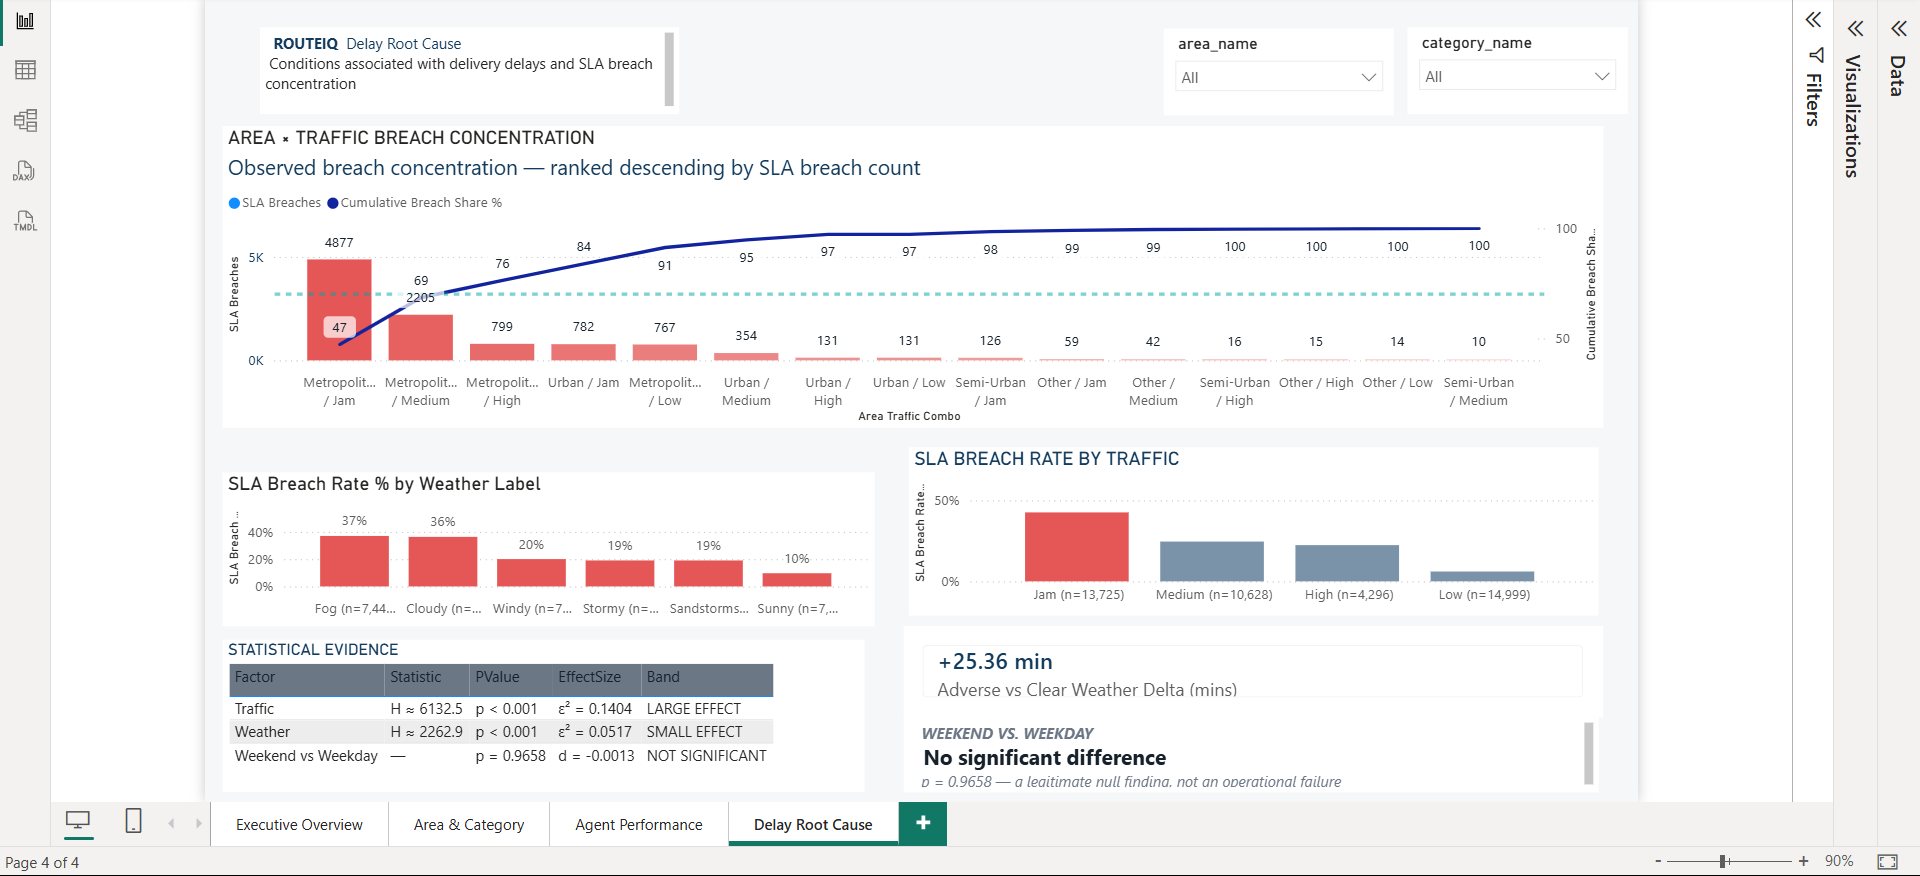

The page's visual inventory and layout, read from the dashboard file:
{"tool":"powerbi","page":{"name":"Delay Root Cause","canvas":[1280,720],"ordinal":3},"visuals":[{"type":"textbox","box":[48.8,27.9,374.4,77.9],"z":0},{"type":"slicer","fields":{"Values":["DimArea.area_name"]},"box":[857,29.1,205.8,77.9],"z":1000},{"type":"slicer","fields":{"Values":["DimCategory.category_name"]},"box":[1074.4,27.9,196.5,77.9],"z":2000},{"type":"lineStackedColumnComboChart","title":"AREA × TRAFFIC BREACH CONCENTRATION","fields":{"Category":["FactDelivery.Area Traffic Combo"],"Y":["FactDelivery.SLA Breaches"],"Y2":["FactDelivery.Cumulative Breach Share %"]},"box":[15.1,116.3,1233.7,269.8],"z":3000},{"type":"clusteredColumnChart","fields":{"Category":["DimWeatherTraffic.Weather Label"],"Y":["FactDelivery.SLA Breach Rate %"]},"box":[15.1,425.6,582.6,137.2],"z":4000},{"type":"clusteredColumnChart","title":"SLA BREACH RATE BY TRAFFIC","fields":{"Category":["DimWeatherTraffic.Traffic Label"],"Y":["FactDelivery.SLA Breach Rate %"]},"box":[629.1,403.5,616.3,150],"z":5000},{"type":"tableEx","title":"STATISTICAL EVIDENCE","fields":{"Values":["StatisticalEvidence.Factor","StatisticalEvidence.Statistic","StatisticalEvidence.PValue","StatisticalEvidence.EffectSize","StatisticalEvidence.Band"]},"box":[15.1,575.6,573.3,136],"z":6000},{"type":"cardVisual","fields":{"Data":["FactDelivery.Adverse vs Clear Weather Delta (mins)"]},"box":[624.4,562.8,624.4,81.4],"z":7000},{"type":"textbox","box":[624.4,644.2,620.9,67.4],"z":8000}]}

Visuals, with their boxes on the page's 1280x720 design canvas (x1, y1, x2, y2). These are canvas units, not pixel positions in the 1920x876 screenshot, which may show the page scaled, cropped or inside an application window:
textbox: x1=49, y1=28, x2=423, y2=106
slicer - DimArea.area_name: x1=857, y1=29, x2=1063, y2=107
slicer - DimCategory.category_name: x1=1074, y1=28, x2=1271, y2=106
"AREA × TRAFFIC BREACH CONCENTRATION" lineStackedColumnComboChart: x1=15, y1=116, x2=1249, y2=386
clusteredColumnChart - DimWeatherTraffic.Weather Label x FactDelivery.SLA Breach Rate %: x1=15, y1=426, x2=598, y2=563
"SLA BREACH RATE BY TRAFFIC" clusteredColumnChart: x1=629, y1=404, x2=1245, y2=554
"STATISTICAL EVIDENCE" tableEx: x1=15, y1=576, x2=588, y2=712
cardVisual - FactDelivery.Adverse vs Clear Weather Delta (mins): x1=624, y1=563, x2=1249, y2=644
textbox: x1=624, y1=644, x2=1245, y2=712
